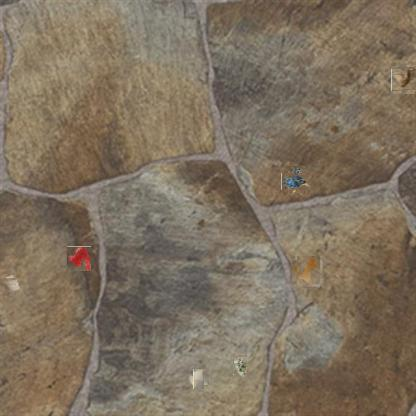dirty: (285, 169, 309, 194), (392, 68, 416, 92), (0, 276, 18, 294), (233, 356, 247, 378), (191, 372, 207, 387)
liquid: (294, 258, 322, 286), (67, 246, 92, 271)
